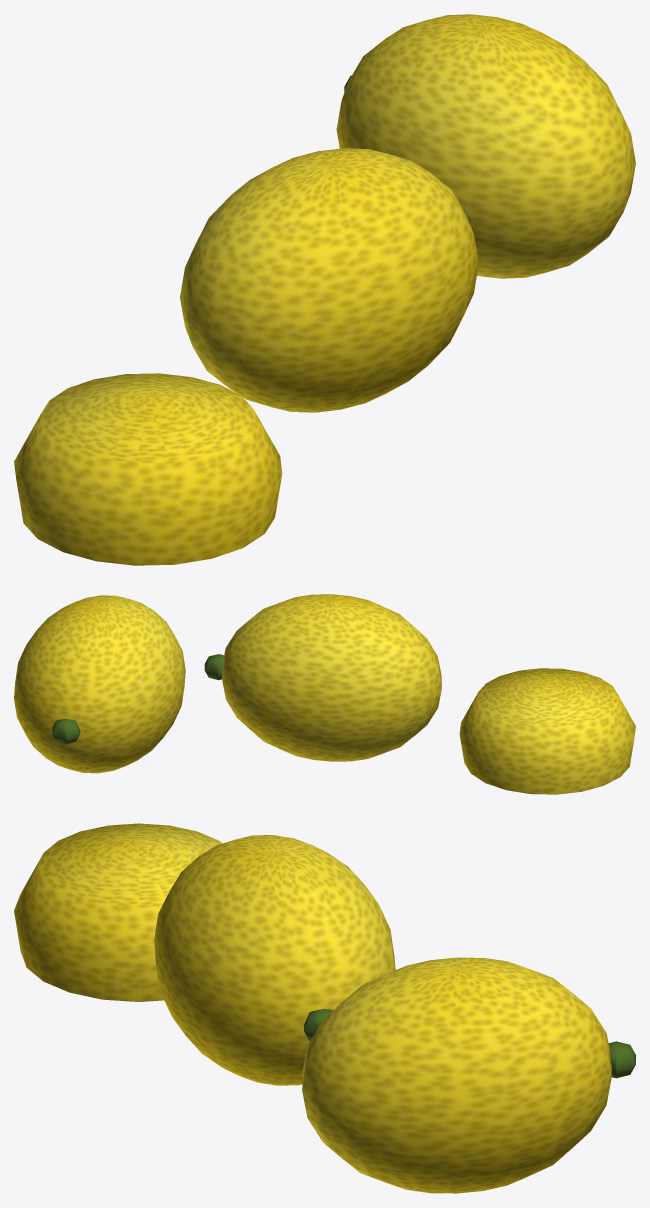
File: fruit_lemons_cut.glb
The picture shows the model from 3 angles, top to bottom: view 1: azimuth 30°, elevation 25°; view 2: azimuth 150°, elevation 25°; view 3: azimuth 270°, elevation 25°; orthographic projection. The views are drawn at different scales.
Visible parts, largest first — view 1: fruit_lemons_cut; view 2: fruit_lemons_cut; view 3: fruit_lemons_cut.
Part boxes in pixels (left/top/right/bottom): fruit_lemons_cut: left=14, top=14, right=635, bottom=565; fruit_lemons_cut: left=14, top=594, right=635, bottom=794; fruit_lemons_cut: left=14, top=823, right=635, bottom=1193.
Bounding box in the file's own units: 0.1738 × 0.052 × 0.1369.
2 materials, 1 textured.
